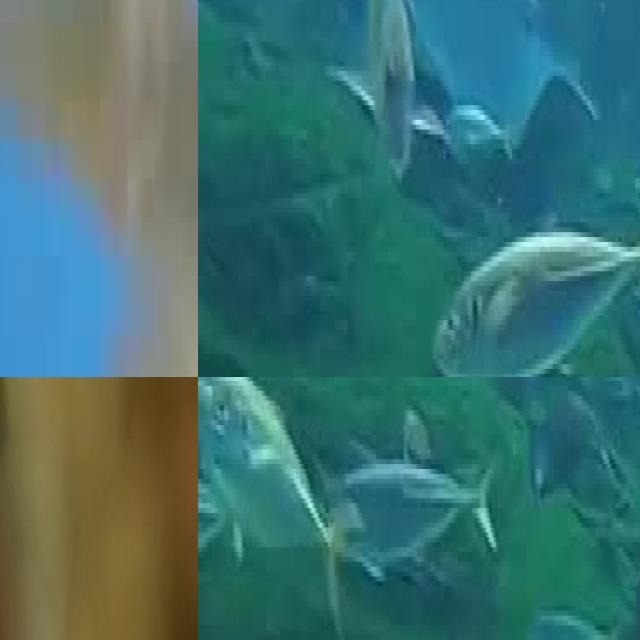fish: (0, 0, 198, 377), (0, 536, 177, 640)
